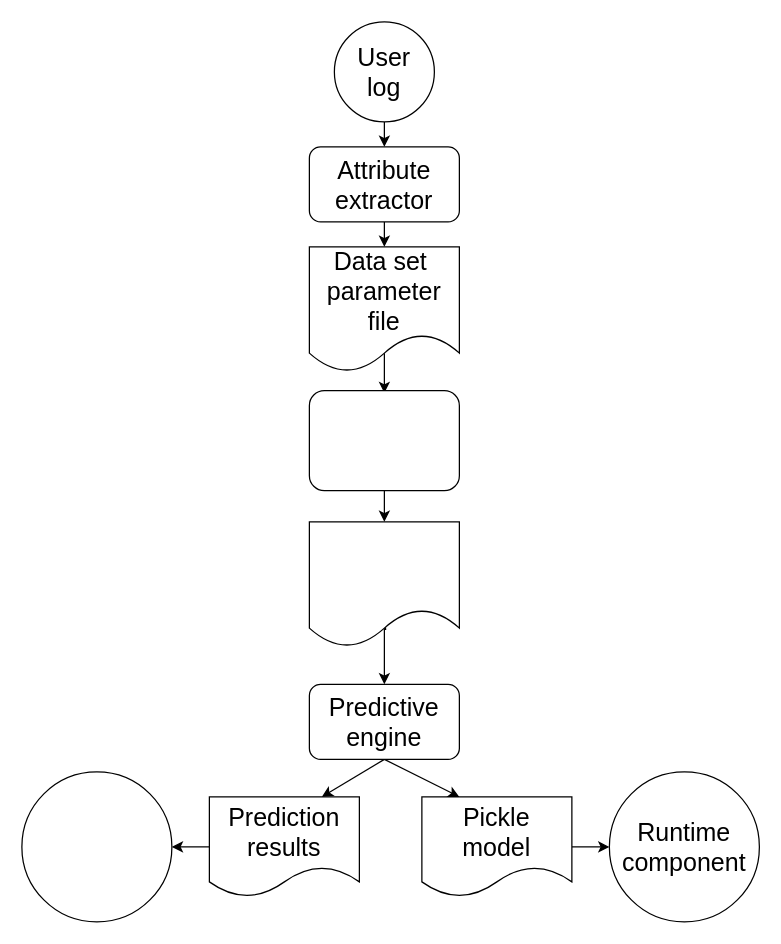
The diagram is 781 pixels wide and 944 high, and some of its shapes have lost their labels. Each missing label, with the centre of its shape:
Simulation process trigger: the point at 383,440
Training parameters: the point at 383,584
UI: the point at 96,846
